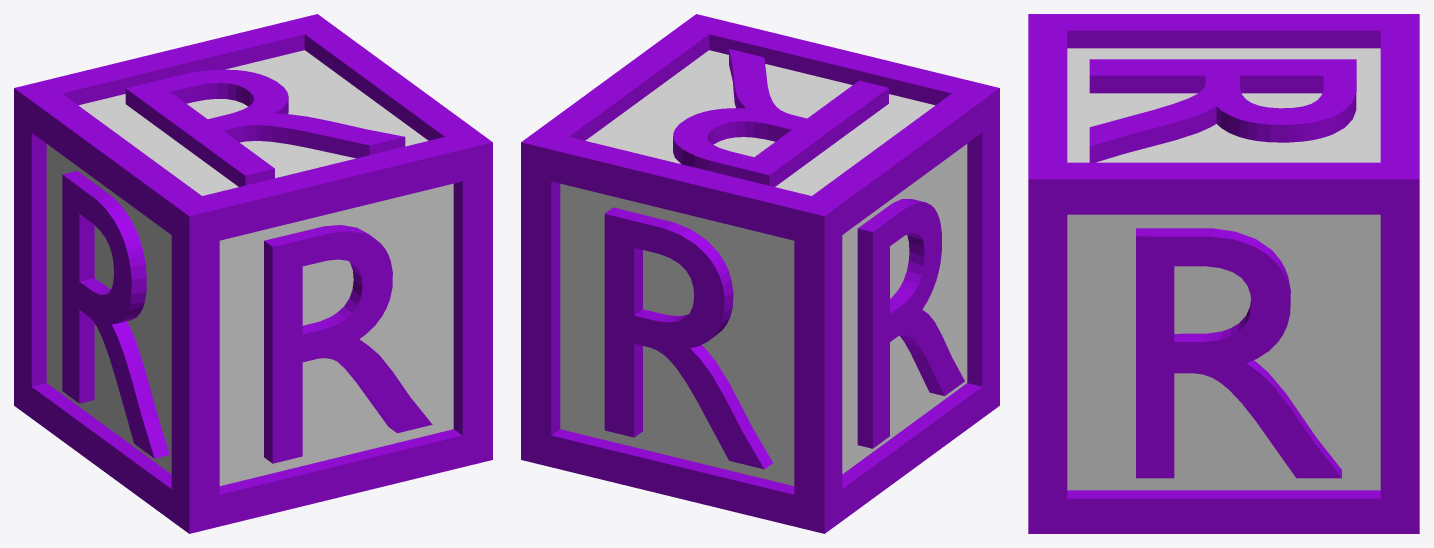
3 renders of one model, left to right at view 1: azimuth 30°, elevation 25°; view 2: azimuth 150°, elevation 25°; view 3: azimuth 270°, elevation 25°, orthographic. The views are drawn at different scales.
Parts seen in each view (by area): view 1: Cube, Text.001, Text.002, Text; view 2: Cube, Text.004, Text.002, Text; view 3: Cube, Text.003, Text.
Boxes of the visible parts, x1=… form: Cube: x1=14, y1=14, x2=492, y2=533; Text.001: x1=264, y1=225, x2=432, y2=463; Text.002: x1=62, y1=171, x2=169, y2=458; Text: x1=125, y1=69, x2=405, y2=186; Cube: x1=521, y1=14, x2=999, y2=533; Text.004: x1=604, y1=207, x2=772, y2=469; Text.002: x1=857, y1=199, x2=964, y2=448; Text: x1=673, y1=49, x2=888, y2=186; Cube: x1=1028, y1=14, x2=1419, y2=533; Text.003: x1=1136, y1=228, x2=1341, y2=478; Text: x1=1089, y1=59, x2=1356, y2=162.
Size of the model in its own units: 200 by 200 by 200.
